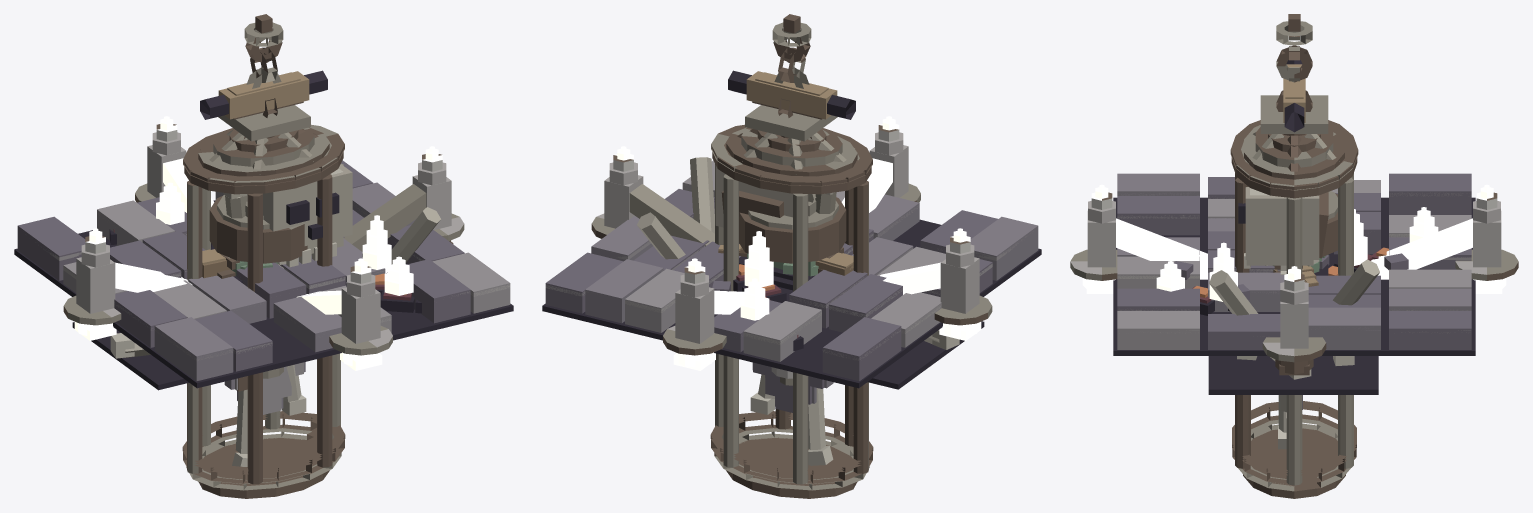
Rendered from rekvisita.glb.
3 views of the same model, side by side, from view 1: azimuth 30°, elevation 25°; view 2: azimuth 150°, elevation 25°; view 3: azimuth 270°, elevation 25° (orthographic).
Visible parts, largest first — view 1: spricka_eld, bur, kandelaber, boss, shovel, rot; view 2: spricka_eld, bur, kandelaber, boss, shovel, rot, mossa; view 3: spricka_eld, bur, kandelaber, boss, shovel.
Boxes of the visible parts, box(x1,y1,x2,y2) form: spricka_eld: box(14, 160, 513, 388); bur: box(182, 14, 345, 498); kandelaber: box(63, 105, 464, 378); boss: box(72, 164, 440, 390); shovel: box(200, 70, 327, 414); rot: box(202, 249, 230, 278); spricka_eld: box(542, 160, 1041, 388); bur: box(710, 14, 873, 498); kandelaber: box(591, 105, 992, 385); boss: box(637, 157, 984, 389); shovel: box(728, 70, 855, 412); rot: box(718, 244, 853, 290); mossa: box(739, 253, 818, 280); spricka_eld: box(1113, 173, 1475, 355); bur: box(1230, 14, 1358, 498); kandelaber: box(1070, 95, 1518, 375); boss: box(1208, 187, 1379, 394); shovel: box(1283, 60, 1305, 409).
Bounding box in the file's own units: 0.6336 × 0.7056 × 0.6336.
